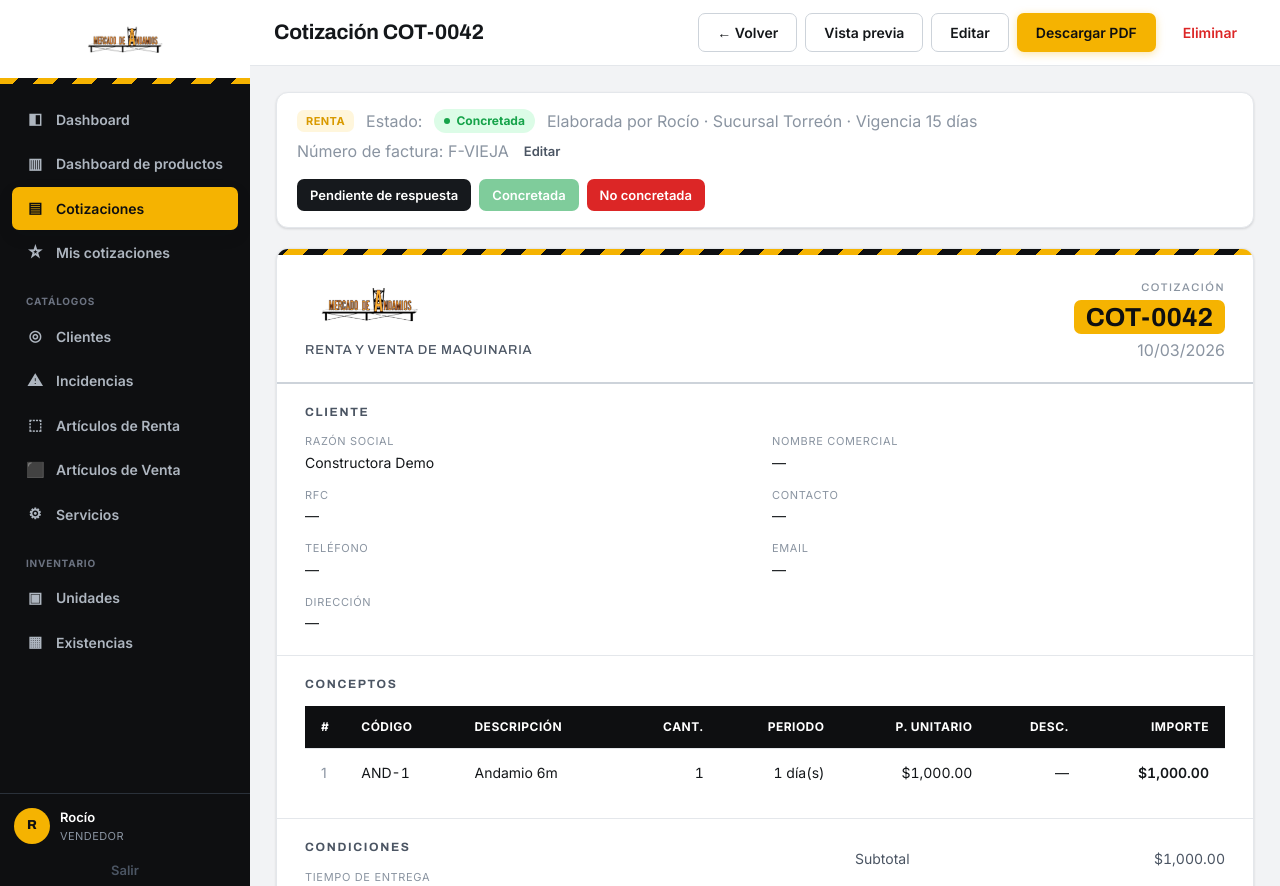
Test: CotizacionDetalle — marcar Concretada › una cotización ya Concretada puede editar su factura sin tocar el resto
Check: the element "Editar" shows "Número de factura: F-VIEJA", box [297,141,569,161]
Click the button "Editar" next to "F-VIEJA": (542, 151) [515,141,570,161]
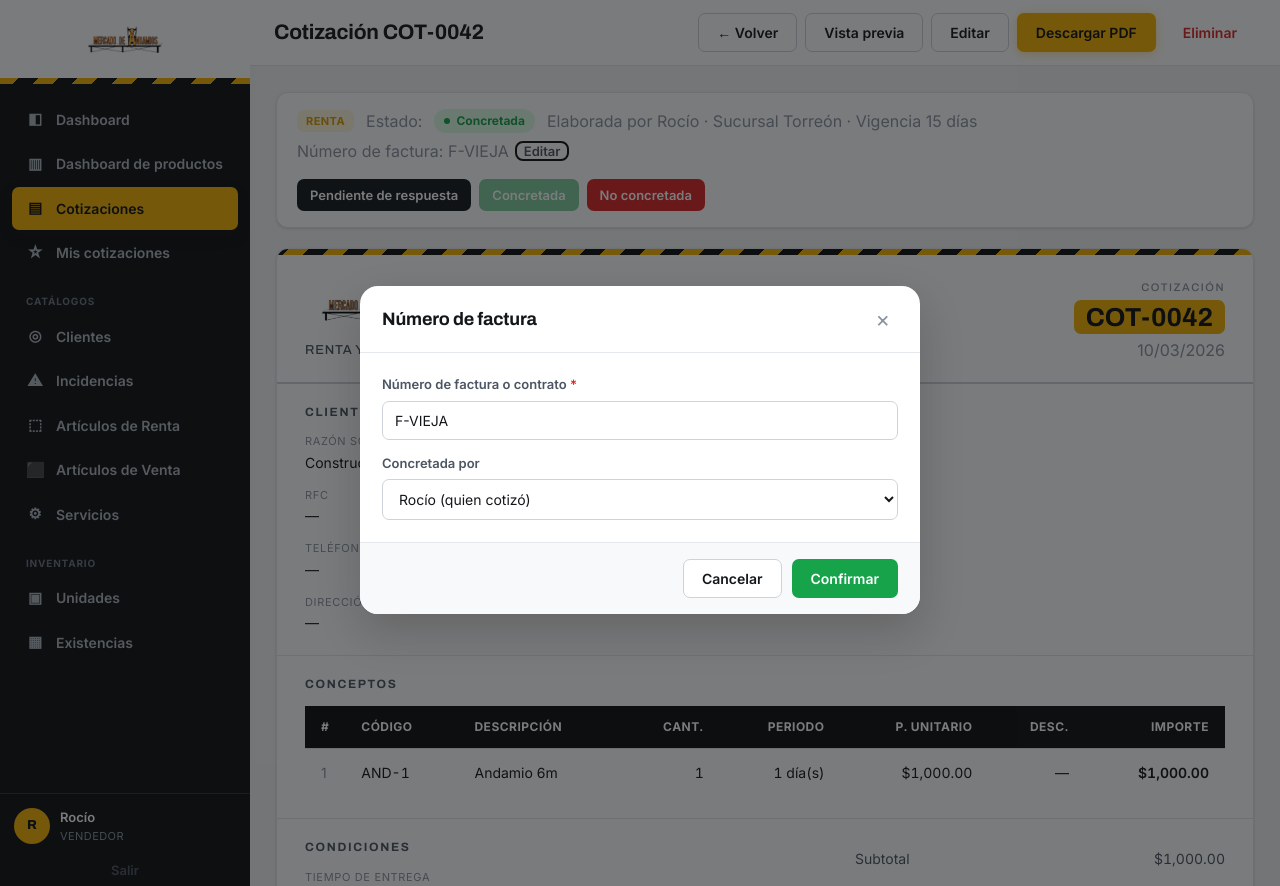
Check: the field labelled "Número de factura o contrato *" holds "F-VIEJA"
Replace the text in the field labelled "Número de factura o contrato *" with "F-NUEVA": (640, 420) [382,400,898,440]
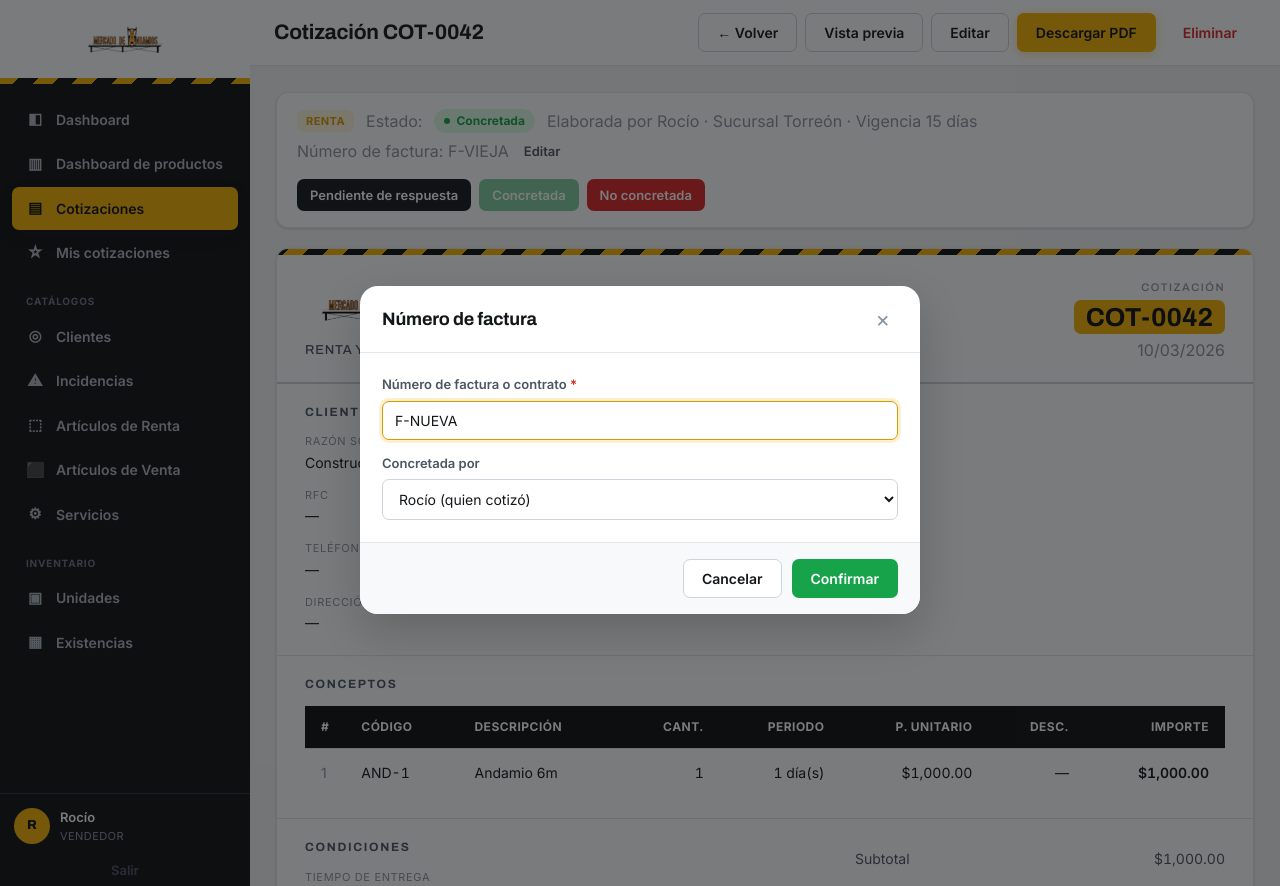
Click the button "Confirmar": (845, 578) [792,559,898,598]
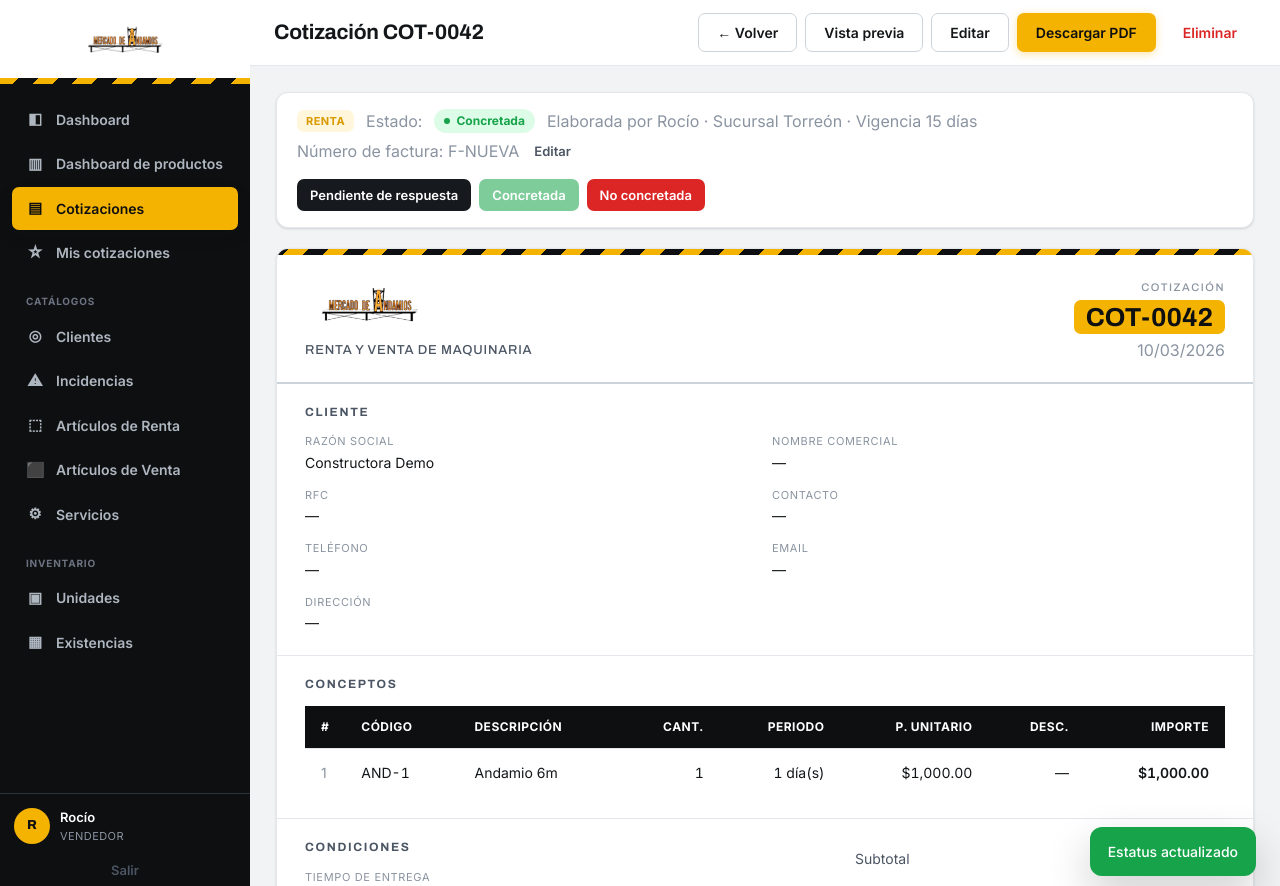
Check: the element "Editar" shows "Número de factura: F-NUEVA", box [297,141,580,161]
